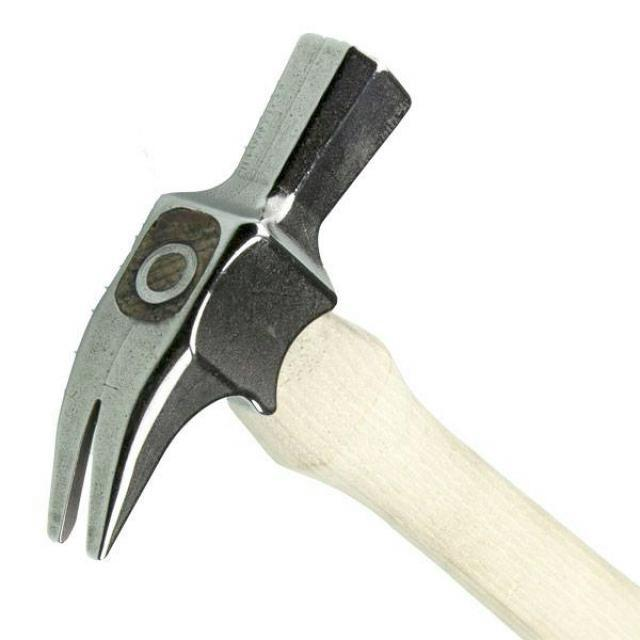hammer: (29, 25, 640, 640)
